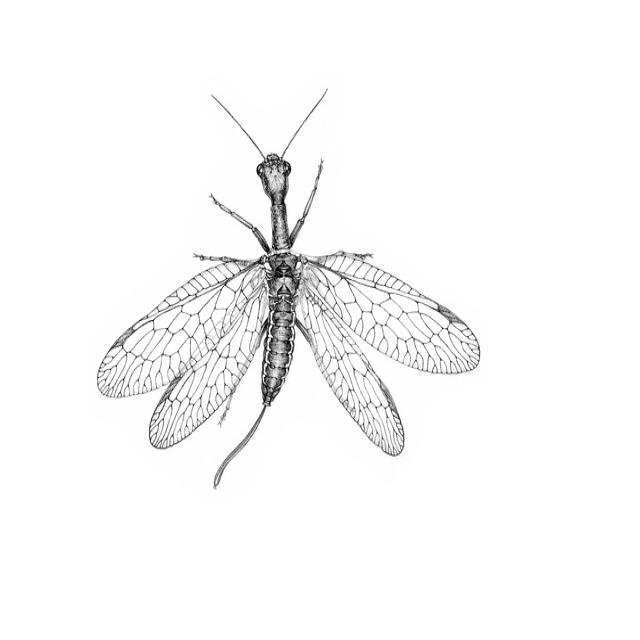butterfly: (95, 108, 483, 487)
